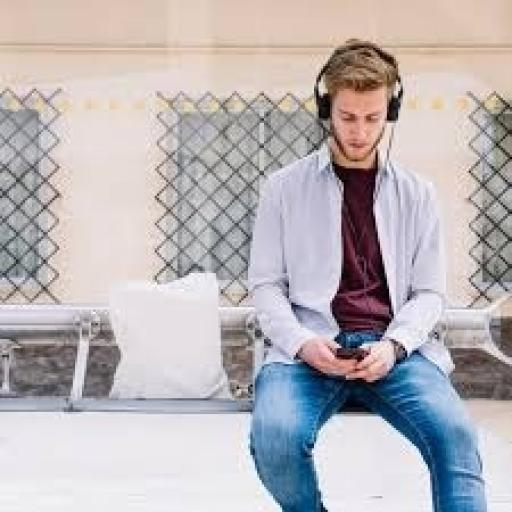listening_to_music: (244, 36, 496, 510)
